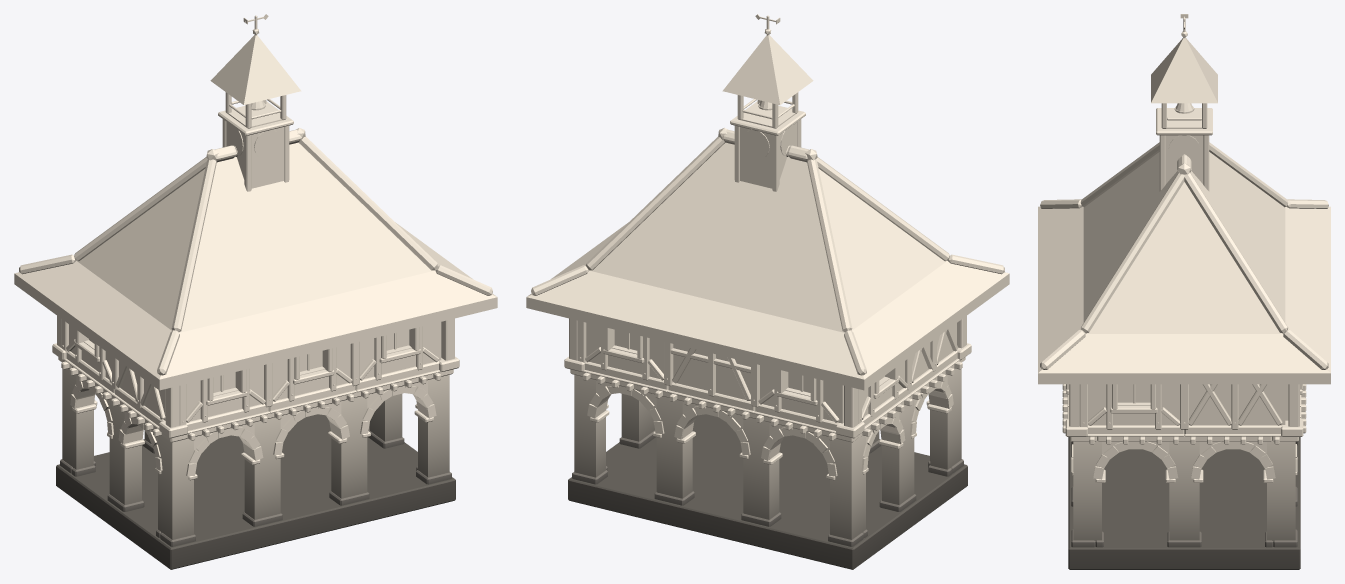
Rendered from SM_VK_MarketHall.fbx.
The picture shows the model from 3 angles, left to right: view 1: azimuth 30°, elevation 25°; view 2: azimuth 150°, elevation 25°; view 3: azimuth 270°, elevation 25°; orthographic projection.
Visible parts, largest first — view 1: SM_VK_MarketHall.001; view 2: SM_VK_MarketHall.001; view 3: SM_VK_MarketHall.001.
Part boxes in pixels (bbox=[...]): SM_VK_MarketHall.001: bbox=[14, 14, 497, 569]; SM_VK_MarketHall.001: bbox=[526, 14, 1009, 569]; SM_VK_MarketHall.001: bbox=[1038, 14, 1330, 569].
Bounding box in the file's own units: 11.7 × 15.81 × 8.7.
